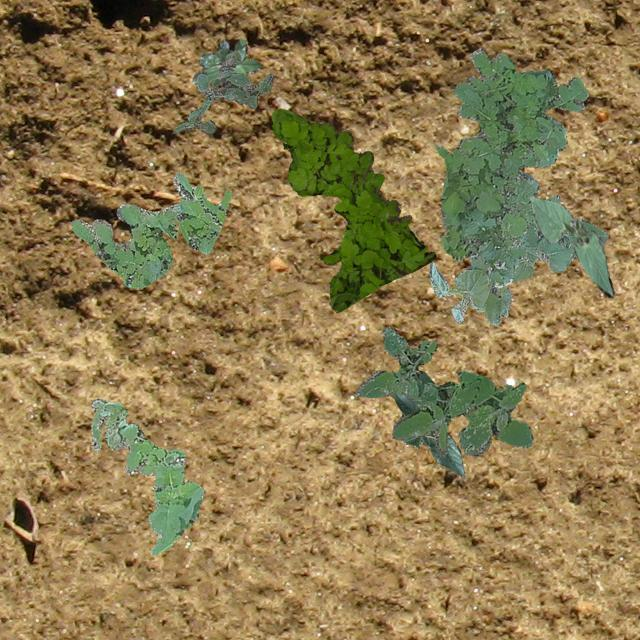crop: (428, 194, 608, 324), (528, 196, 614, 296), (392, 392, 464, 477)
weed: (433, 48, 588, 286), (270, 108, 434, 312), (354, 324, 532, 454), (70, 170, 230, 288), (90, 398, 202, 554), (172, 49, 272, 132), (198, 37, 245, 104), (192, 52, 260, 84)
